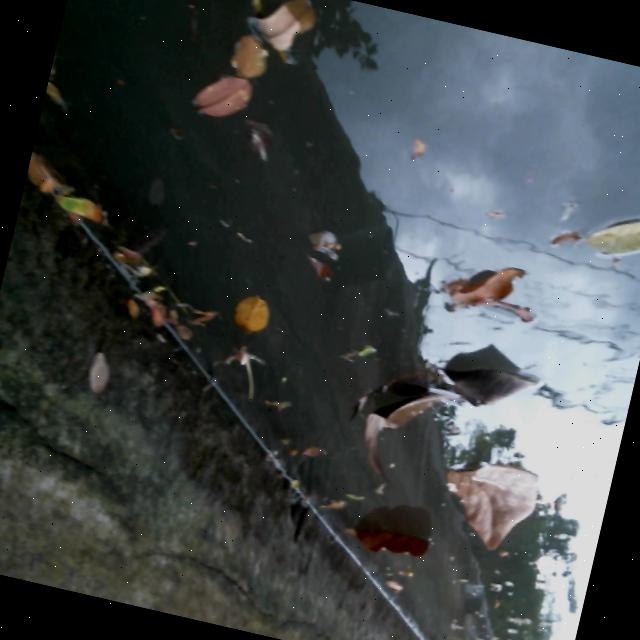Big-leaf: (349, 323, 540, 505), (429, 439, 552, 557), (416, 219, 547, 328), (333, 510, 427, 569)
Small-leaf: (556, 194, 640, 276), (241, 0, 328, 56), (187, 64, 252, 126), (48, 188, 120, 240), (40, 37, 84, 115), (222, 277, 274, 341), (220, 18, 275, 77), (22, 140, 67, 196), (110, 230, 153, 268), (144, 284, 173, 334), (301, 244, 332, 281), (297, 442, 330, 471), (122, 291, 139, 317)
